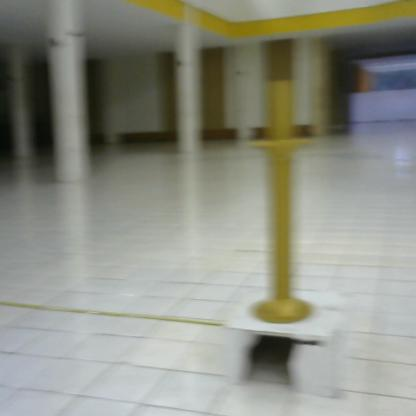pole: (246, 75, 319, 329)
